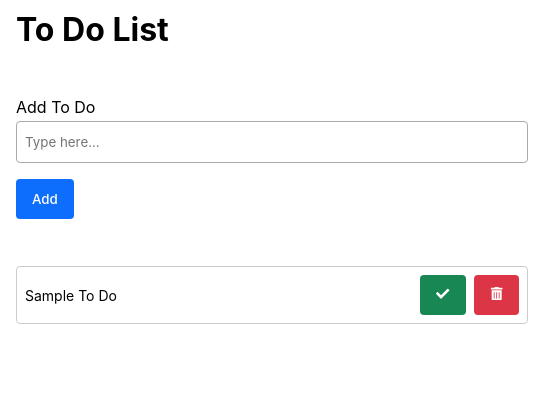
Test: Test ToDo Page › should add a new item on to do list
The image size is (545, 399).
Type "My test To Do" into the field with placeholder "Type here..." at x=272, y=142, box [16, 121, 528, 163]
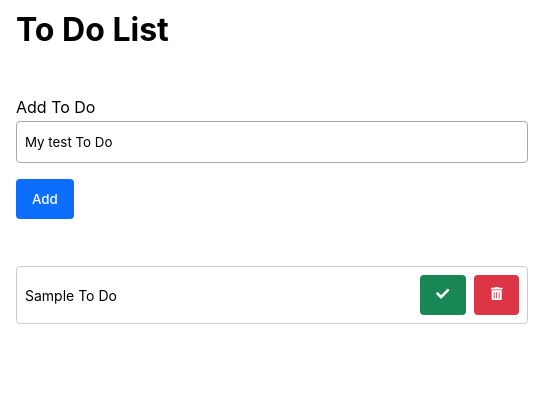
Click the button "Add" at x=45, y=199, box [16, 179, 74, 219]
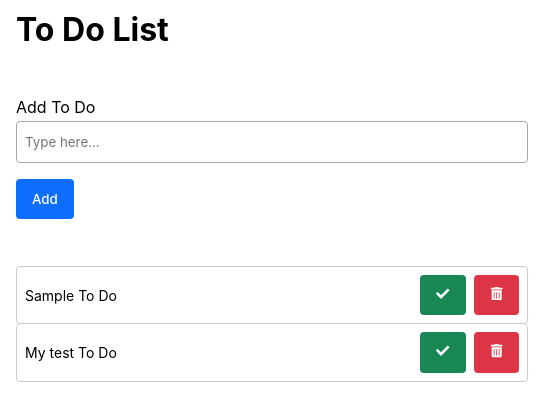
Check: the number of elements with test id "list-item" is 2, box [16, 266, 528, 324]; [16, 323, 528, 382]
